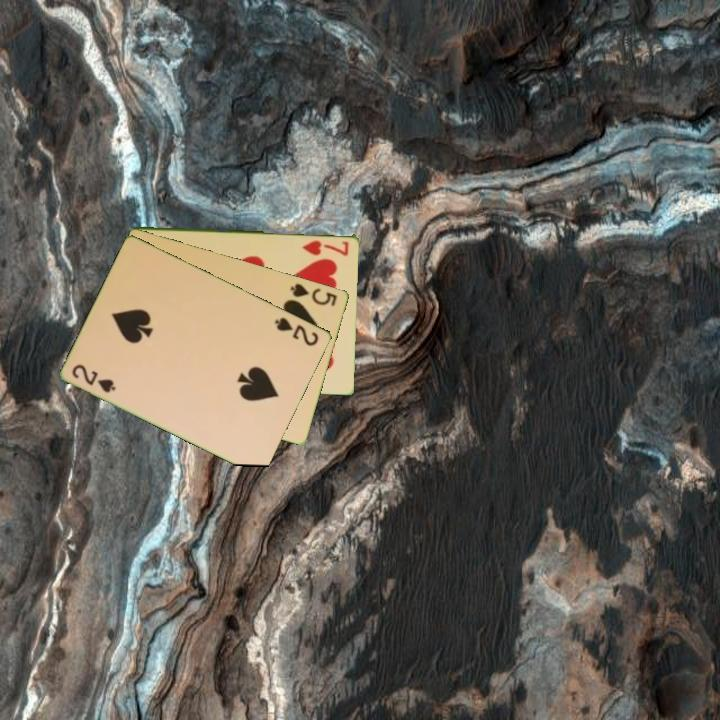2s: (68, 361, 119, 396), (272, 314, 322, 349)
5s: (287, 280, 340, 309)
7h: (299, 236, 352, 258)
